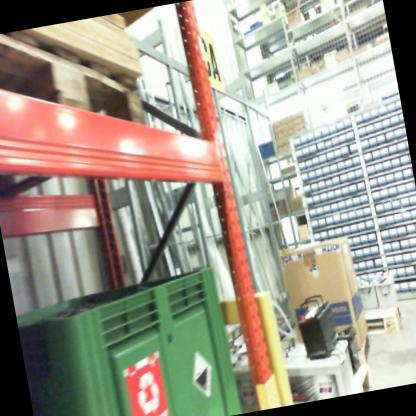pallet: (0, 10, 162, 164), (348, 291, 414, 342), (334, 329, 393, 369), (286, 0, 328, 33), (337, 361, 377, 394)
